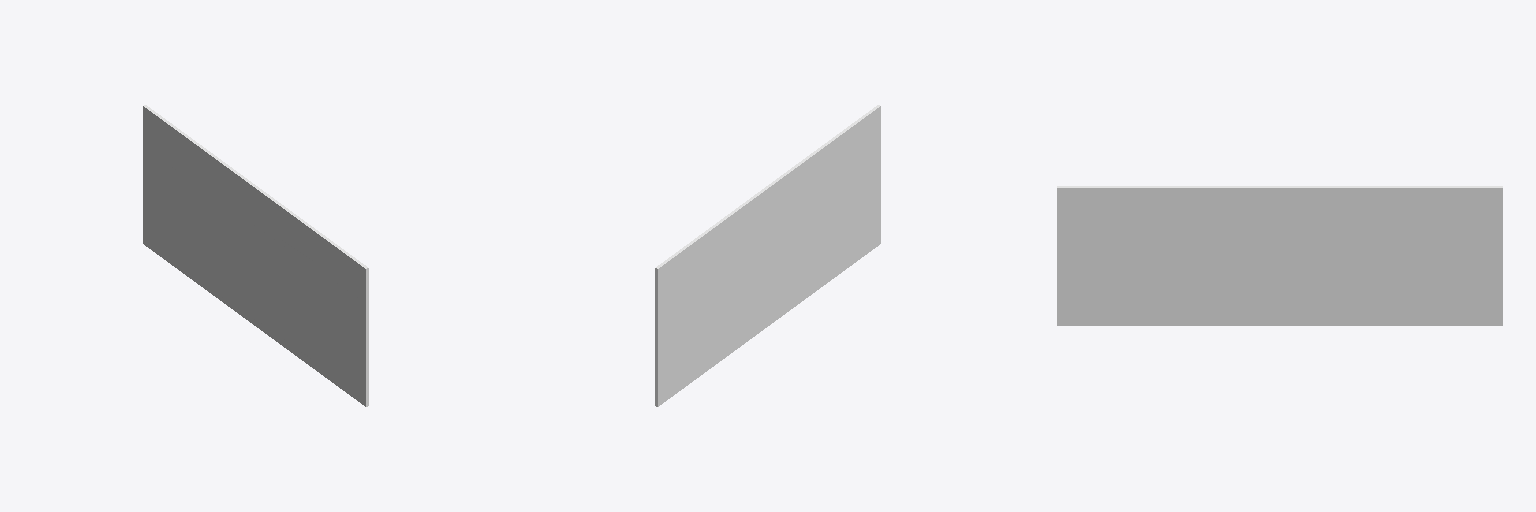
Rendered from fabrica-6.obj.
3 views of the same model, side by side, from view 1: azimuth 30°, elevation 25°; view 2: azimuth 150°, elevation 25°; view 3: azimuth 270°, elevation 25° (orthographic).
Parts seen in each view (by area): view 1: object 1; view 2: object 1; view 3: object 1.
Part boxes in pixels (x1,y1,x2,y2): object 1: (143, 105, 368, 406); object 1: (655, 105, 880, 406); object 1: (1057, 186, 1502, 325).
Bounding box in the file's own units: 0.1 × 4 × 11.7.